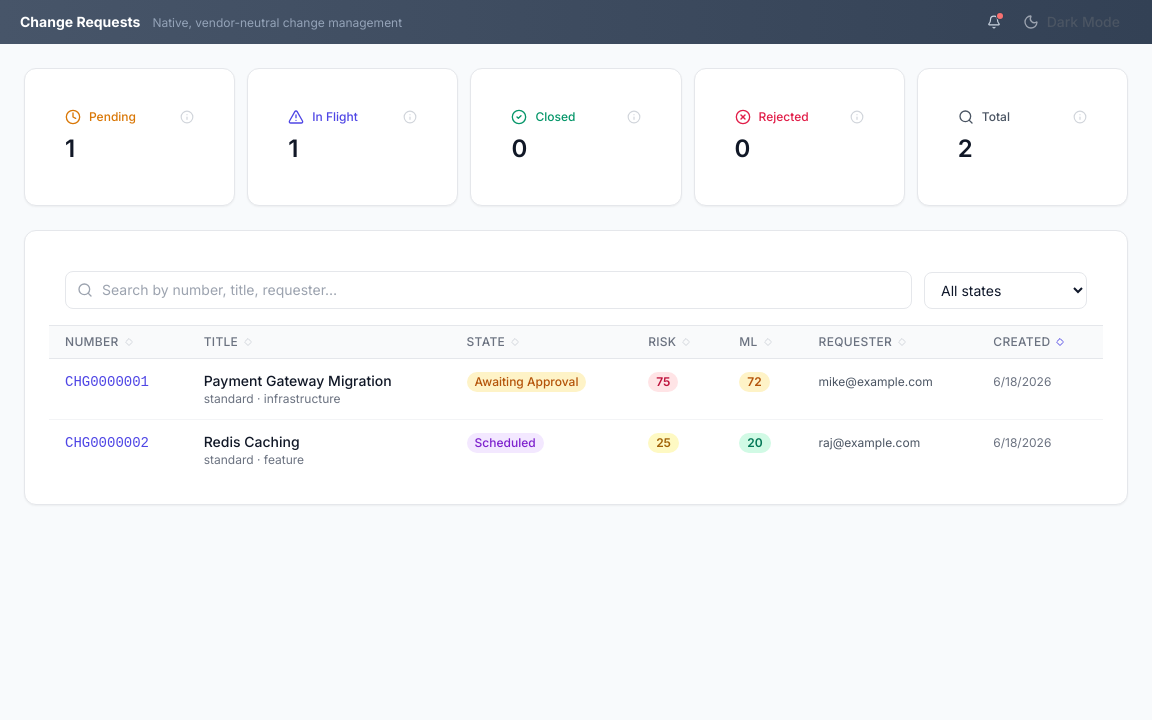
Test: Changes List Page › filters by state
Expected: the link "CHG0000001" is shown, [65,374,149,390]
Select "scheduled" in the dropdown at (1006, 290), box [924,272,1087,308]
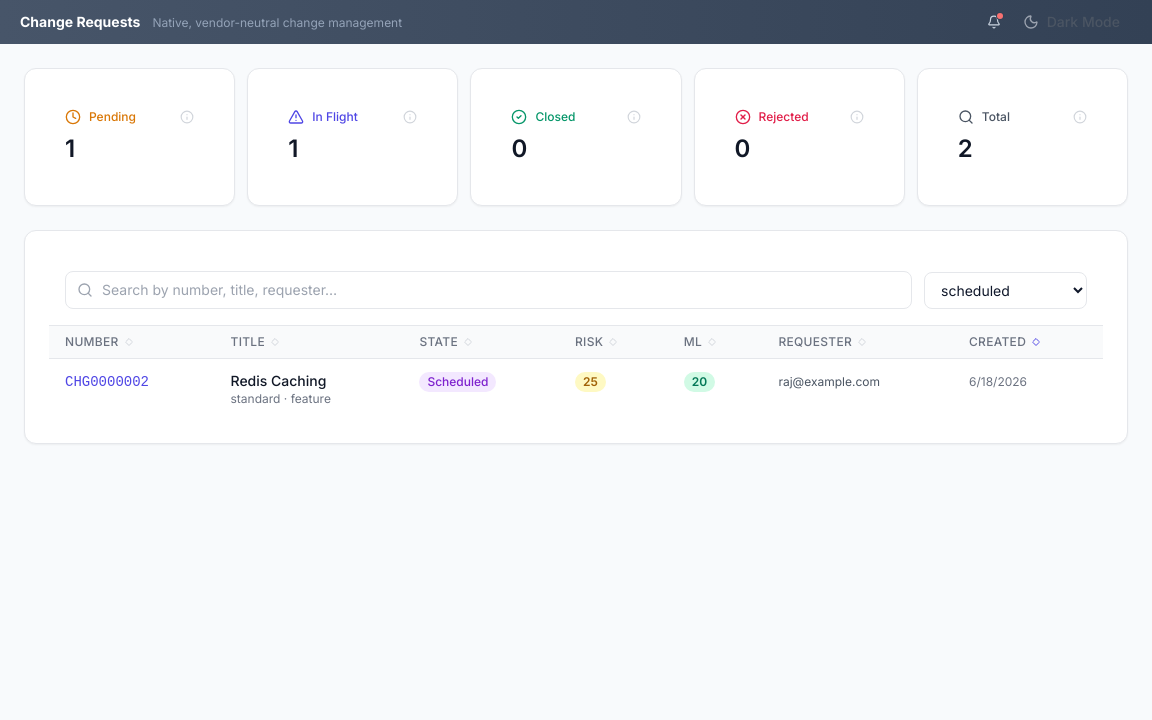
Expected: the link "CHG0000002" is shown, [65,374,149,390]
Now the link "CHG0000001" is gone
